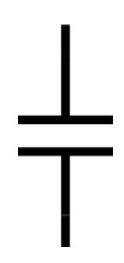Capacitor: (11, 95, 117, 170)
